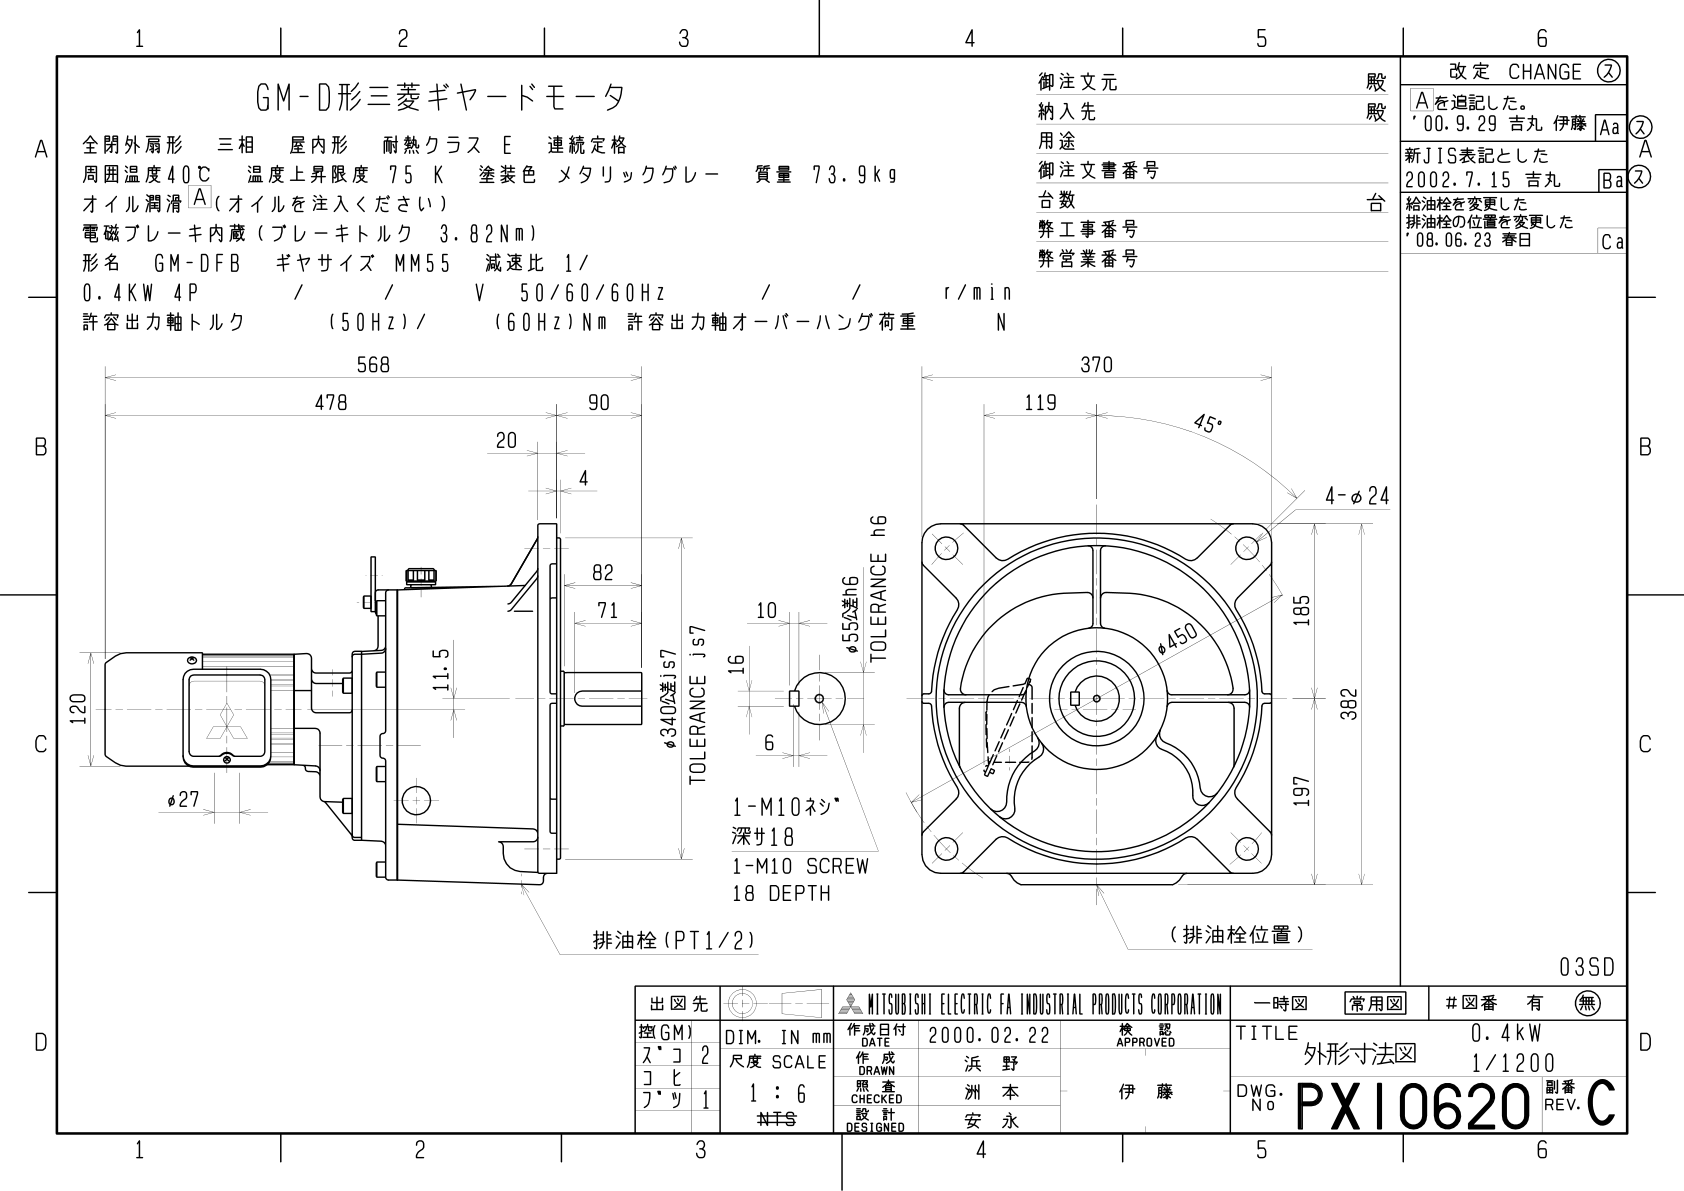GM_D_屋内＿三相_フランジ: (64, 331, 1393, 971)
